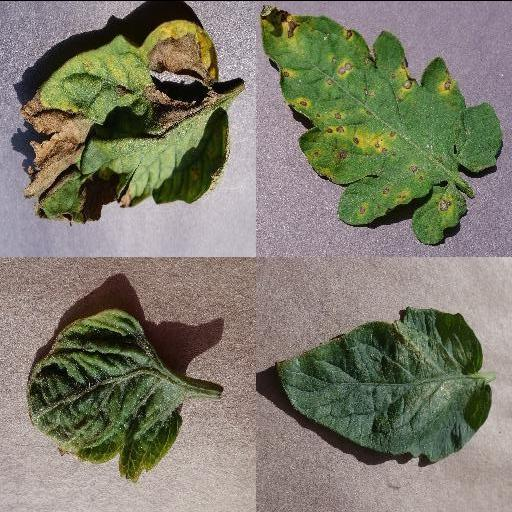Late Blight: (20, 17, 232, 223)
Septoria: (260, 4, 504, 245)
Spider Mites: (275, 306, 493, 460)
Yellow Leaf Curl Virus: (27, 306, 183, 484)
